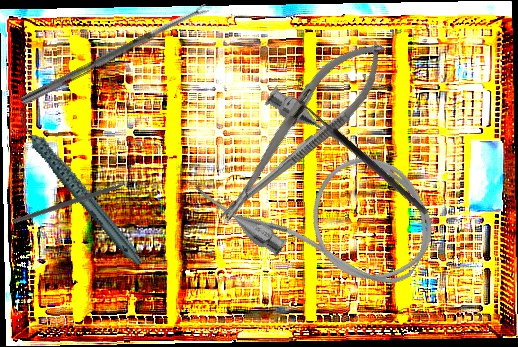Cannula: (186, 78, 459, 323)
Chopper: (10, 133, 148, 275)
Handpiece: (15, 92, 144, 284)
Hook Surgical: (285, 93, 430, 222)
Needle Holder: (201, 25, 402, 237)
Surgical Spoon: (20, 3, 210, 107)
